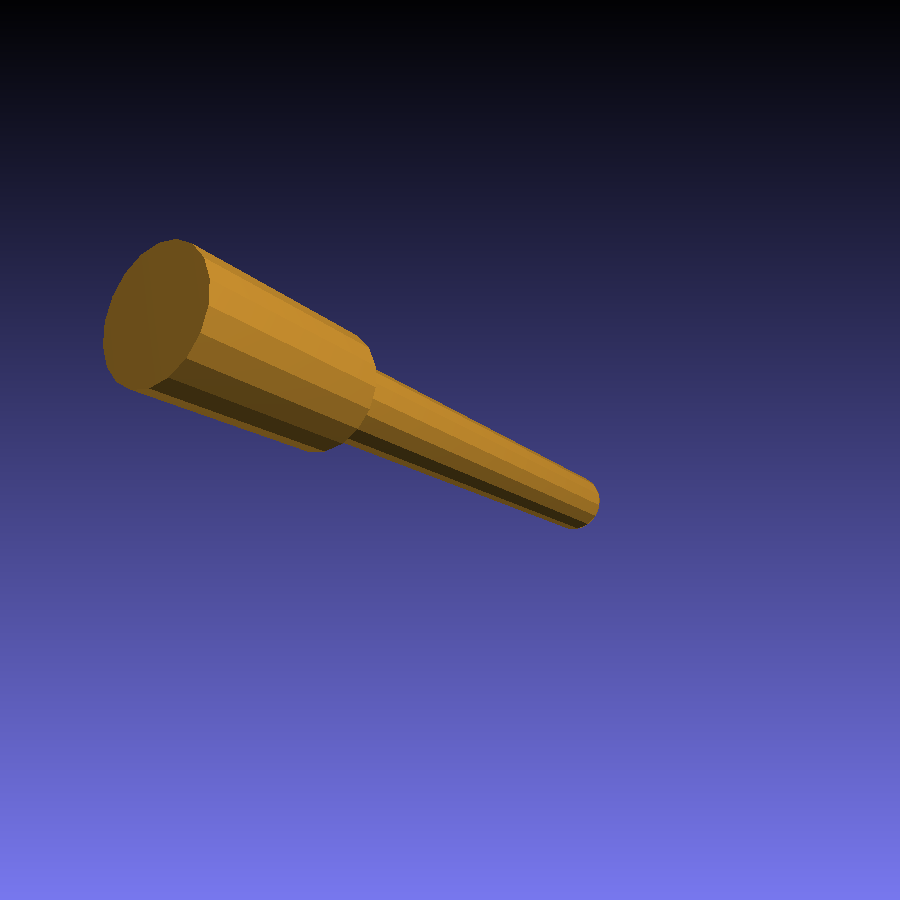cargo_g: (102, 238, 603, 530)
